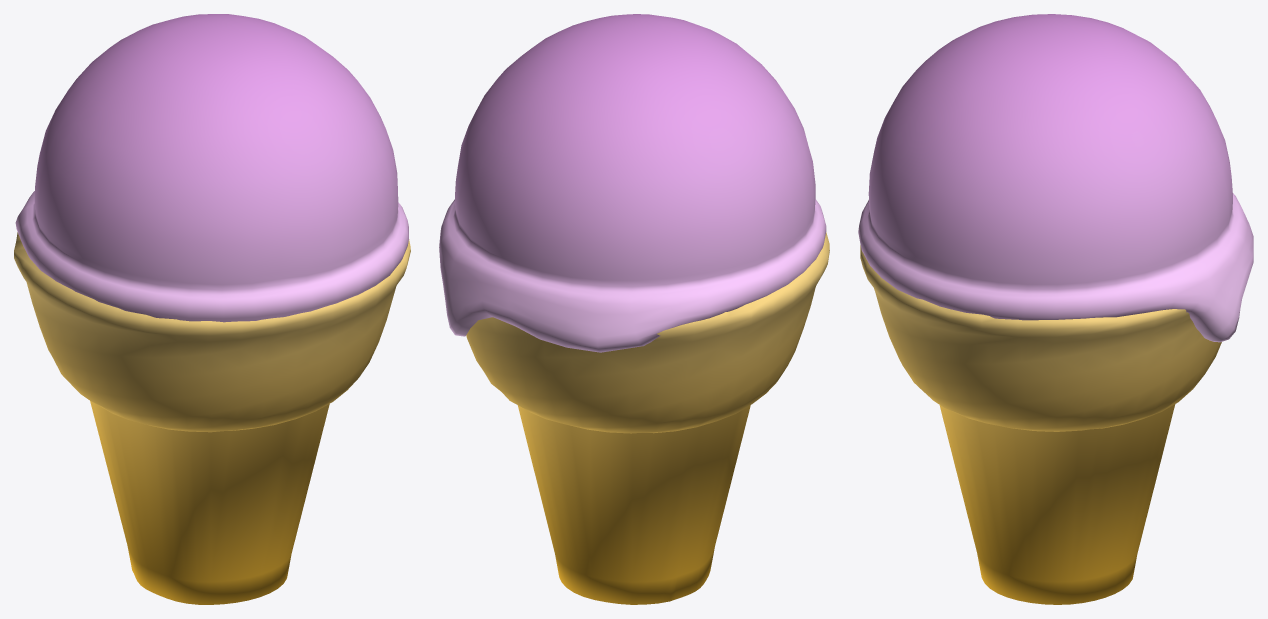
File: IceCream_0001_0005.fbx
3 views of the same model, side by side, from view 1: azimuth 30°, elevation 25°; view 2: azimuth 150°, elevation 25°; view 3: azimuth 270°, elevation 25° (orthographic).
Visible parts, largest first — view 1: Ice_0001_0005; view 2: Ice_0001_0005; view 3: Ice_0001_0005.
Part boxes in pixels (x1=…): Ice_0001_0005: x1=14, y1=14, x2=410, y2=604; Ice_0001_0005: x1=439, y1=14, x2=829, y2=604; Ice_0001_0005: x1=858, y1=14, x2=1253, y2=604.
Bounding box in the file's own units: 0.0809 × 0.1232 × 0.0815.
1 material, 1 textured.
